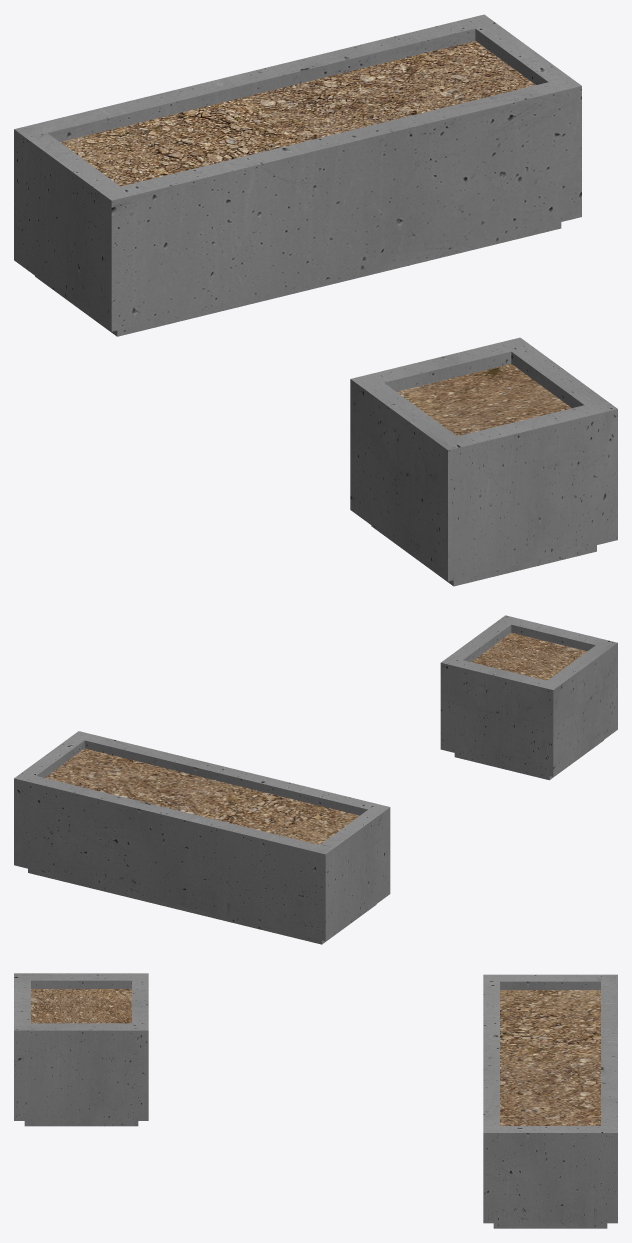
Rendered from pot_1.FBX.
3 views of the same model, one above another, from view 1: azimuth 30°, elevation 25°; view 2: azimuth 150°, elevation 25°; view 3: azimuth 270°, elevation 25° (orthographic). The views are drawn at different scales.
Parts seen in each view (by area): view 1: Pot_1, Pot_003; view 2: Pot_1, Pot_003; view 3: Pot_1, Pot_003.
Part boxes in pixels (box(x1,y1,x2,y2)): Pot_1: box(14, 14, 581, 336); Pot_003: box(350, 337, 617, 586); Pot_1: box(14, 731, 390, 944); Pot_003: box(440, 615, 617, 780); Pot_1: box(483, 974, 617, 1228); Pot_003: box(14, 973, 148, 1126).
Bounding box in the file's own units: 179 × 52.24 × 286.
